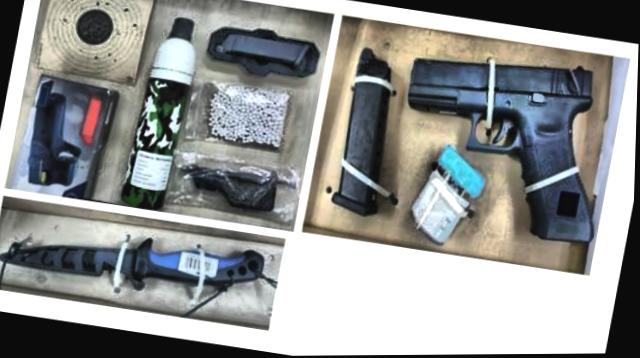pistol: (382, 42, 623, 247)
